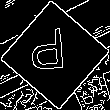P_S: (35, 28, 75, 82)
